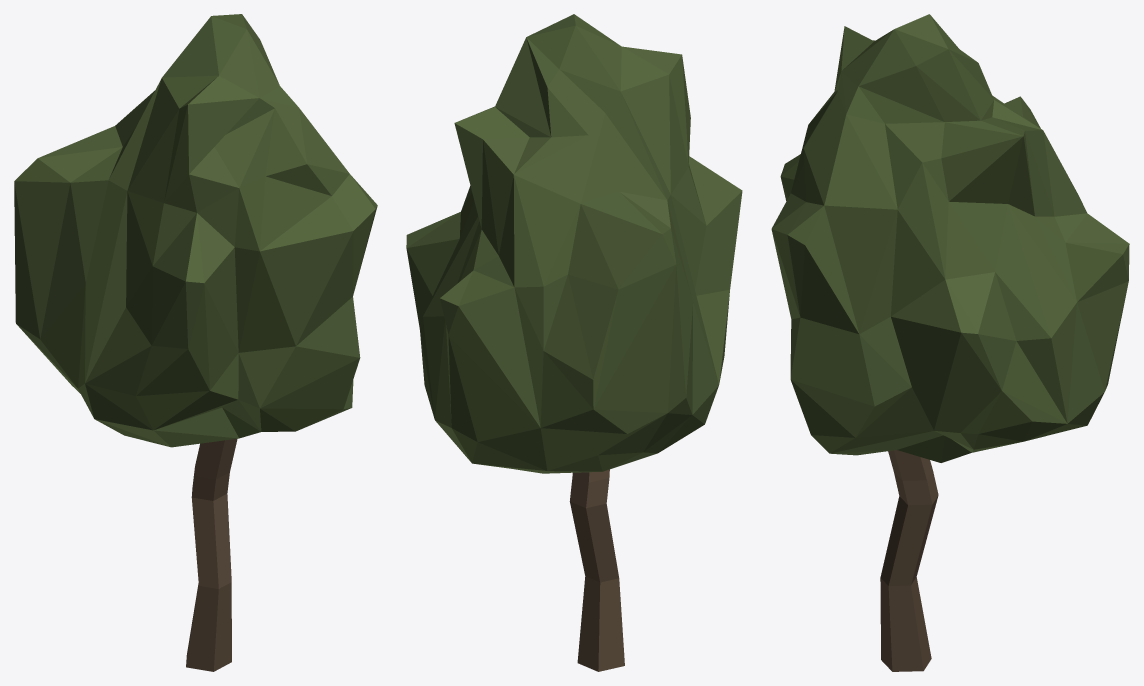
File: Tree_076.fbx
The picture shows the model from 3 angles, left to right: view 1: azimuth 30°, elevation 25°; view 2: azimuth 150°, elevation 25°; view 3: azimuth 270°, elevation 25°; orthographic projection. The views are drawn at different scales.
Visible parts, largest first — view 1: Tree_076; view 2: Tree_076; view 3: Tree_076.
Part boxes in pixels (x1,y1,x2,y2): Tree_076: (14, 14, 377, 671); Tree_076: (406, 14, 742, 671); Tree_076: (771, 14, 1129, 671).
Bounding box in the file's own units: 1.09 × 2.19 × 1.08.
1 material, 1 textured.
